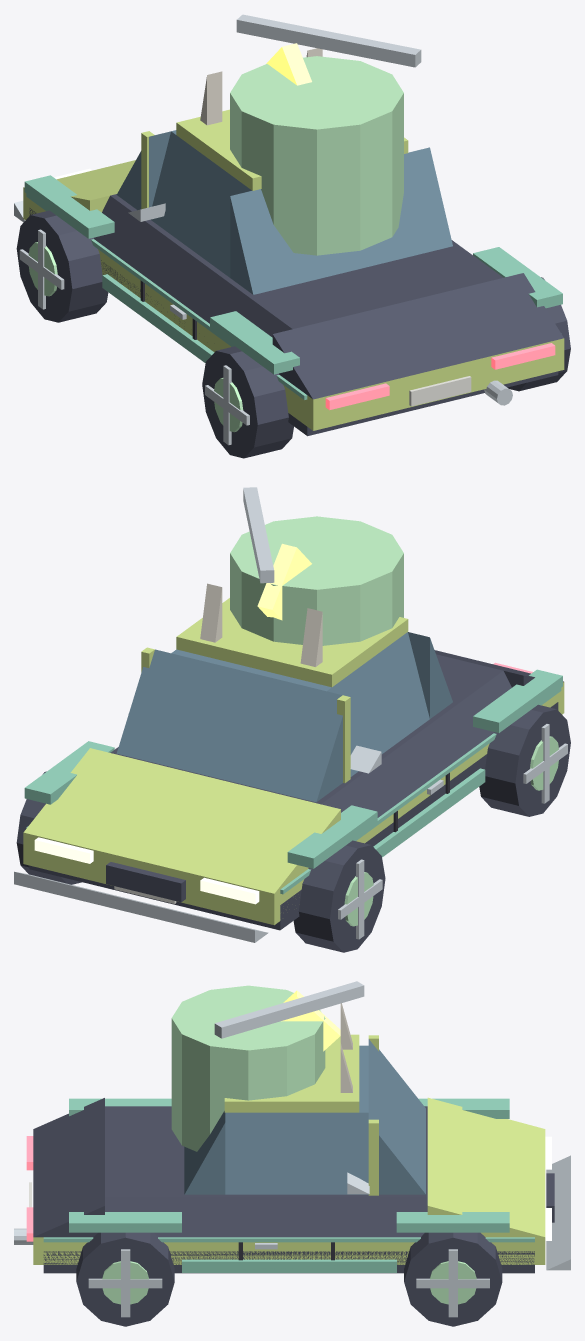
Rendered from dream_drummer.glb.
3 views of the same model, one above another, from view 1: azimuth 30°, elevation 25°; view 2: azimuth 150°, elevation 25°; view 3: azimuth 270°, elevation 25° (orthographic). The views are drawn at different scales.
Parts seen in each view (by area): view 1: Drum.002, Tail.144, RearWindow.237, BodyUpper.134, Body.337, ShoulderL.134, CabinSideL.134, Wheel_RL.277, Wheel_FL.277, DrumStick.002, Roof.337, Arch-1False.193 (+18 smaller); view 2: Nose.134, Windshield.237, Drum.002, ShoulderL.134, CabinSideL.134, Roof.337, Body.337, Wheel_RL.277, Wheel_FL.277, Bumper.333, BodyUpper.134, Sill.333 (+22 smaller); view 3: Drum.002, Nose.134, CabinSideR.134, ShoulderR.134, Tail.144, BodyUpper.134, Body.337, Windshield.237, Wheel_FR.277, Wheel_RR.277, Roof.337, Sill.333 (+18 smaller).
Part boxes in pixels (x1,y1,x2,y2): Drum.002: (230, 56, 403, 255); Tail.144: (272, 273, 563, 399); RearWindow.237: (230, 147, 452, 294); BodyUpper.134: (110, 194, 503, 328); Body.337: (23, 187, 564, 430); ShoulderL.134: (94, 195, 292, 337); CabinSideL.134: (151, 131, 251, 277); Wheel_RL.277: (202, 346, 293, 458); Wheel_FL.277: (16, 210, 108, 322); DrumStick.002: (236, 14, 421, 67); Roof.337: (176, 109, 408, 190); Arch-1False.193: (24, 175, 114, 238); Nose.134: (23, 748, 340, 893); Windshield.237: (116, 649, 342, 802); Drum.002: (230, 516, 403, 645); ShoulderL.134: (321, 671, 511, 817); CabinSideL.134: (327, 632, 429, 776); Roof.337: (176, 598, 408, 687); Body.337: (23, 682, 564, 925); Wheel_RL.277: (479, 704, 570, 816); Wheel_FL.277: (293, 840, 385, 952); Bumper.333: (14, 871, 268, 942); BodyUpper.134: (110, 654, 502, 804); Sill.333: (29, 702, 558, 930); Drum.002: (171, 985, 325, 1151); Nose.134: (427, 1097, 545, 1237); CabinSideR.134: (225, 1112, 368, 1194); ShoulderR.134: (105, 1197, 427, 1237); Tail.144: (33, 1098, 104, 1237); BodyUpper.134: (105, 1106, 427, 1196); Body.337: (33, 1237, 545, 1264); Windshield.237: (368, 1039, 425, 1194); Wheel_FR.277: (404, 1232, 502, 1326); Wheel_RR.277: (76, 1232, 174, 1326); Roof.337: (224, 1034, 359, 1112); Sill.333: (43, 1251, 534, 1273).
Size of the model in its own units: 3.2 by 2.91 by 5.44.
